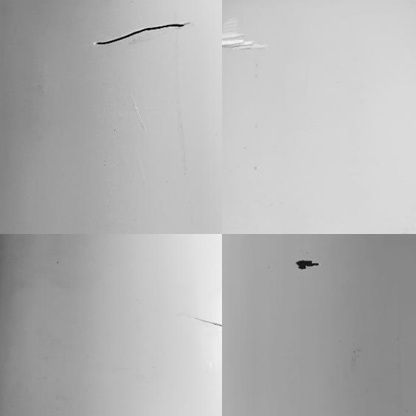fengxi: (91, 22, 188, 46)
kongdong: (294, 256, 316, 271)
sunshang: (219, 14, 270, 53), (190, 313, 222, 329)
